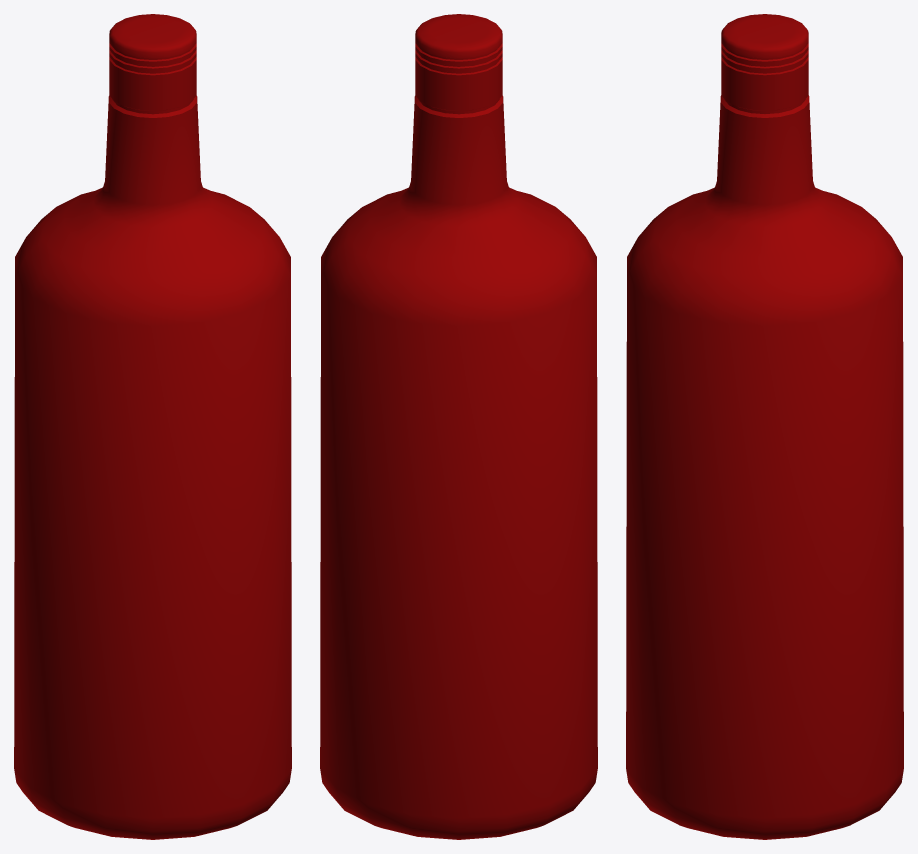
File: mesh_bottle_04.fbx
3 renders of one model, left to right at view 1: azimuth 30°, elevation 25°; view 2: azimuth 150°, elevation 25°; view 3: azimuth 270°, elevation 25°, orthographic.
Parts seen in each view (by area): view 1: mesh_bottle_04; view 2: mesh_bottle_04; view 3: mesh_bottle_04.
Boxes of the visible parts, <box> form: mesh_bottle_04: <box>14,14,291,839</box>; mesh_bottle_04: <box>320,14,597,839</box>; mesh_bottle_04: <box>626,14,903,839</box>.
Size of the model in its own units: 6.75 by 20.08 by 6.65.
